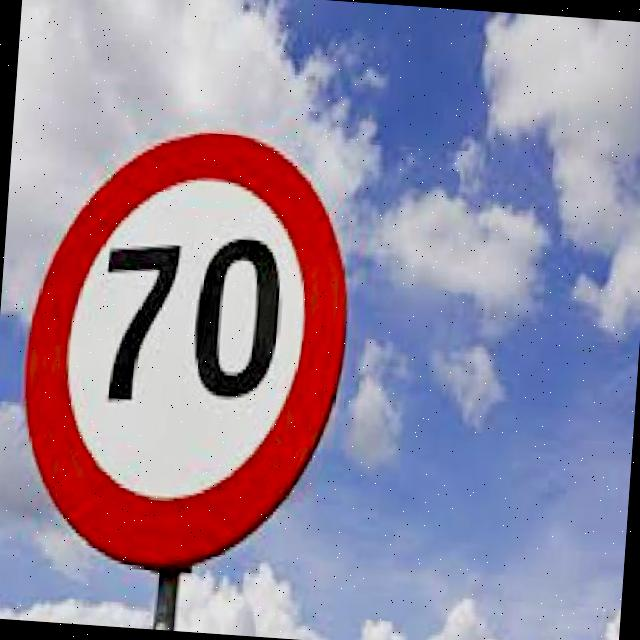Ograniczenie predkosci do 70: (7, 113, 360, 572)
